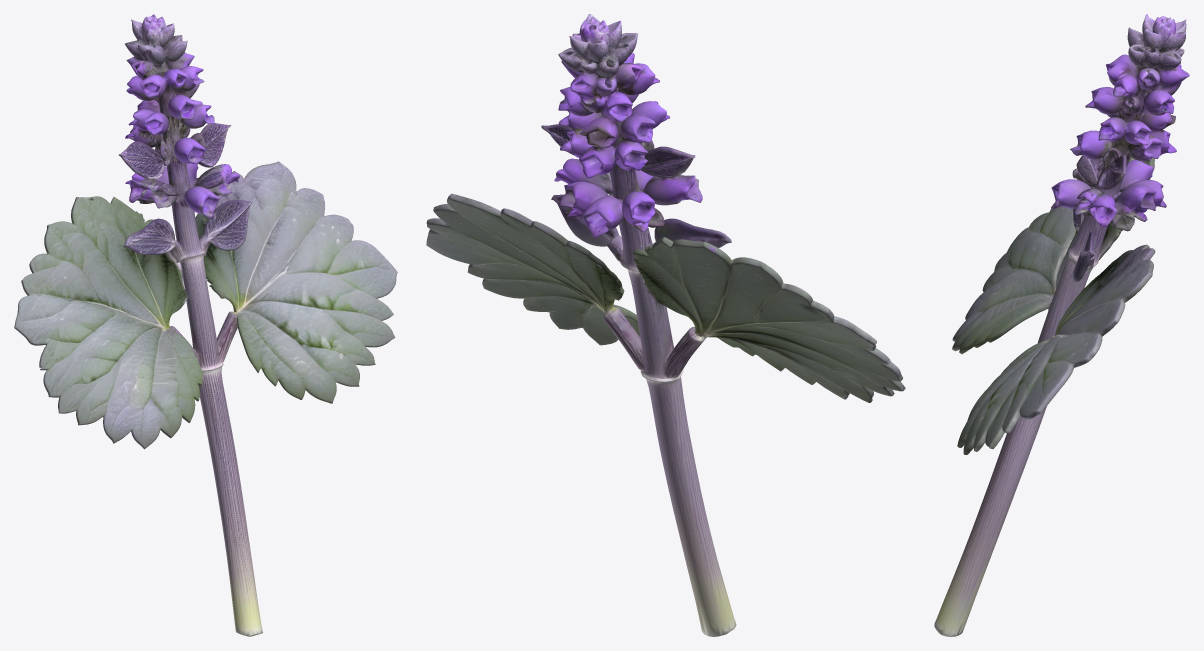
The model's file is zisu.glb.
The picture shows the model from 3 angles, left to right: view 1: azimuth 30°, elevation 25°; view 2: azimuth 150°, elevation 25°; view 3: azimuth 270°, elevation 25°; orthographic projection. The views are drawn at different scales.
Parts seen in each view (by area): view 1: node_0; view 2: node_0; view 3: node_0.
Part boxes in pixels (box(x1,y1,x2,y2)): node_0: box(14, 14, 397, 636); node_0: box(426, 14, 905, 636); node_0: box(934, 14, 1189, 636).
Bounding box in the file's own units: 0.7968 × 1.14 × 0.4287.
Materials: 1 (1 with a texture image).
